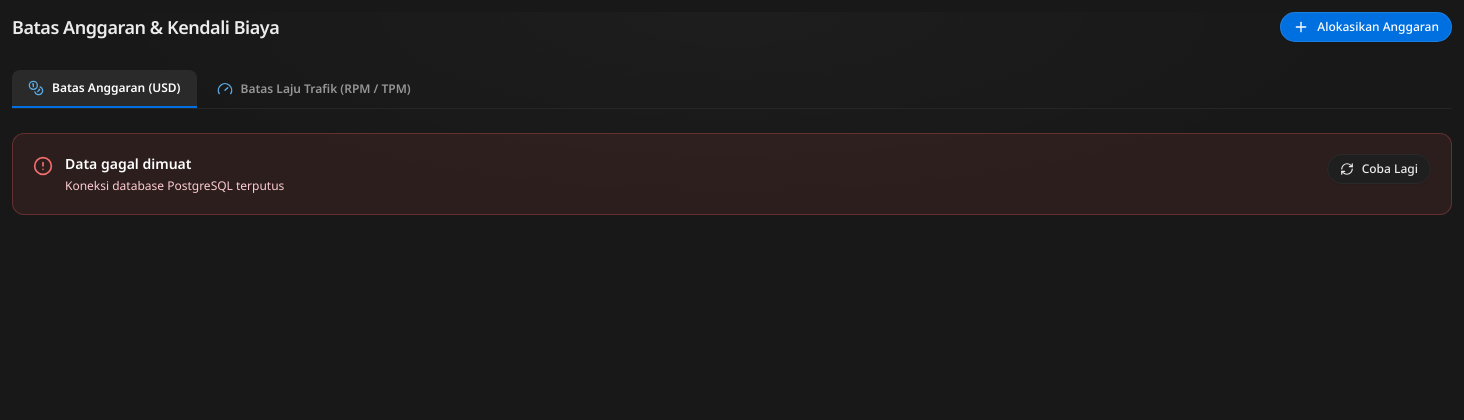
Budgets Page — Modular Architecture & Unit Tests › menangani error pemuatan API dengan menampilkan QueryError dan tombol retry
Expected: the text "Koneksi database PostgreSQL terputus" is shown, 65,178 -> 284,194
Step 1. Click the button "Coba Lagi" → (1379, 169), box 1327,154 -> 1431,184
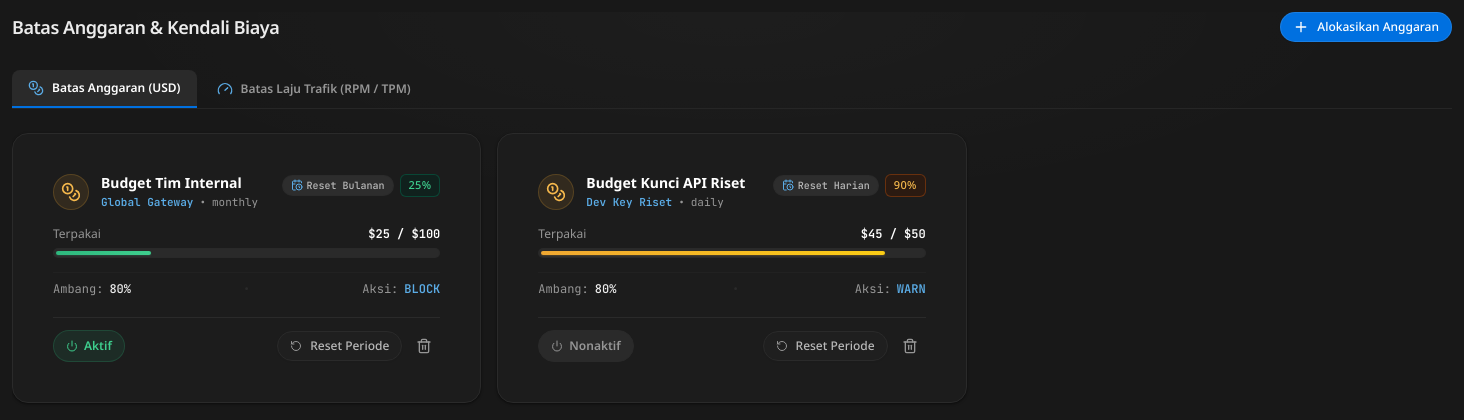
Expected: the heading "Budget Tim Internal" is shown, 101,174 -> 258,192
